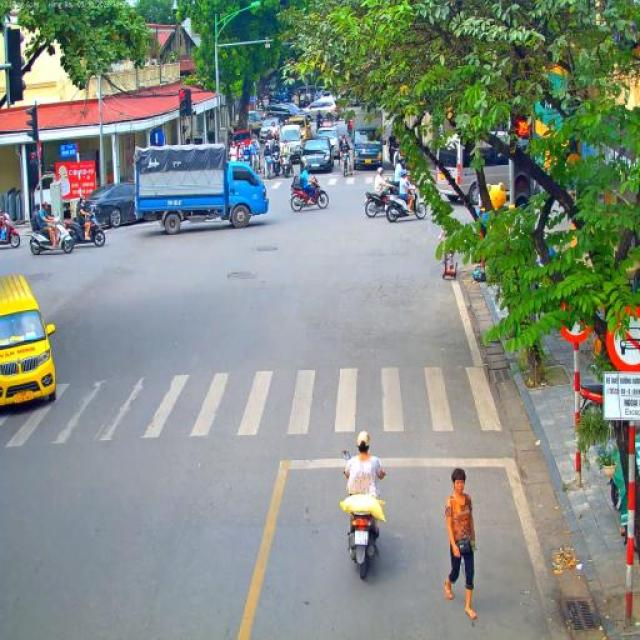bus: (430, 108, 549, 208)
car: (0, 274, 58, 410), (80, 181, 136, 230), (300, 136, 334, 174), (265, 102, 313, 124), (300, 96, 340, 122), (316, 124, 340, 164), (280, 124, 304, 160), (286, 116, 312, 145), (243, 110, 263, 140), (259, 118, 280, 143), (232, 129, 254, 152)
motorcycle: (338, 450, 387, 580), (29, 216, 75, 256), (59, 212, 106, 248), (385, 184, 427, 222), (362, 181, 402, 219), (288, 178, 329, 212), (1, 216, 22, 250), (280, 152, 294, 178), (261, 154, 274, 180), (340, 150, 352, 178), (389, 144, 402, 168), (250, 150, 261, 174), (272, 156, 283, 178), (342, 118, 353, 138), (242, 153, 254, 171), (270, 140, 280, 158), (227, 154, 238, 162)
truck: (130, 143, 270, 235), (351, 112, 385, 172)
